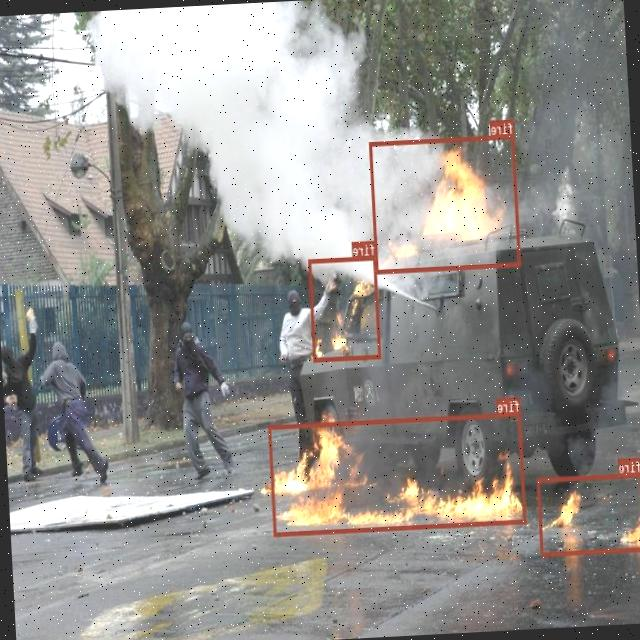fire: (269, 412, 526, 536), (369, 134, 522, 272), (537, 473, 640, 556), (309, 255, 382, 362)
